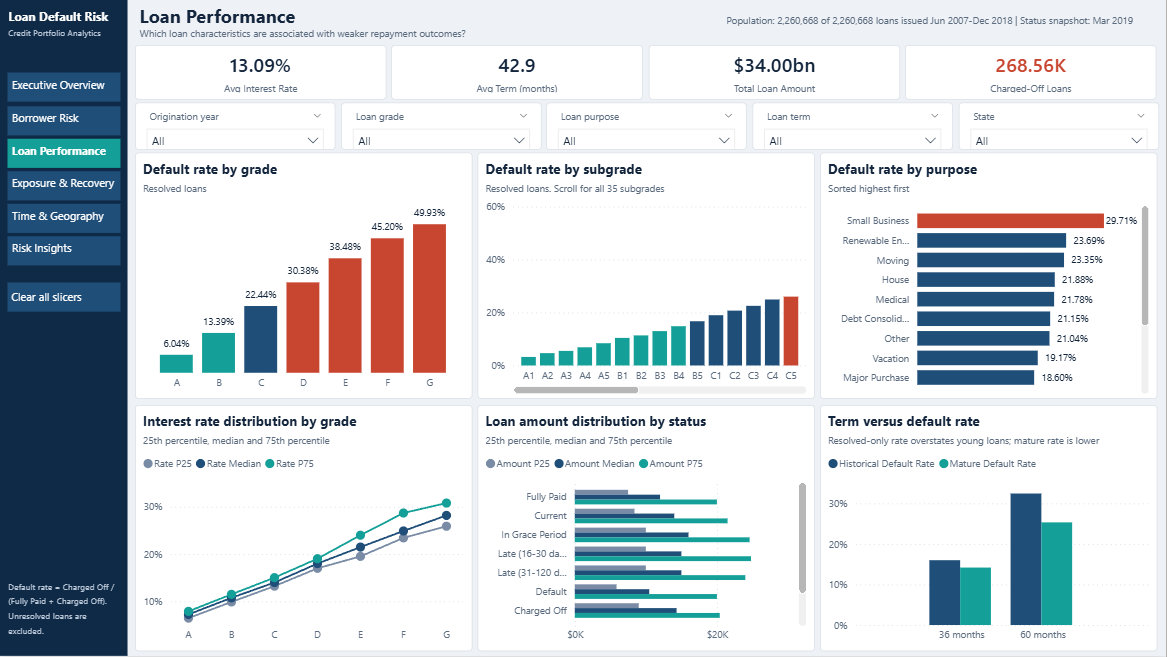

The page's visual inventory and layout, read from the dashboard file:
{"tool":"powerbi","page":{"name":"Loan Performance","canvas":[1280,720],"ordinal":2},"visuals":[{"type":"textbox","box":[0,0,140,720],"z":0},{"type":"textbox","box":[4,4,134,72],"z":1000},{"type":"textbox","box":[8,80,124,32],"z":2000},{"type":"actionButton","box":[8,80,124,32],"z":3000},{"type":"textbox","box":[8,116,124,32],"z":4000},{"type":"actionButton","box":[8,116,124,32],"z":5000},{"type":"textbox","box":[8,152,124,32],"z":6000},{"type":"actionButton","box":[8,152,124,32],"z":7000},{"type":"textbox","box":[8,188,124,32],"z":8000},{"type":"actionButton","box":[8,188,124,32],"z":9000},{"type":"textbox","box":[8,224,124,32],"z":10000},{"type":"actionButton","box":[8,224,124,32],"z":11000},{"type":"textbox","box":[8,260,124,32],"z":12000},{"type":"actionButton","box":[8,260,124,32],"z":13000},{"type":"textbox","box":[8,310,124,32],"z":14000},{"type":"actionButton","box":[8,310,124,32],"z":15000},{"type":"textbox","box":[4,630,134,86],"z":16000},{"type":"textbox","box":[148,-2,620,40],"z":17000},{"type":"textbox","box":[148,24,720,26],"z":18000},{"type":"card","fields":{"Values":["fact_loans.Scope Label"]},"box":[770,6,502,40],"z":19000},{"type":"card","fields":{"Values":["fact_loans.Average Interest Rate"]},"box":[148,50,276,60],"z":20000},{"type":"card","fields":{"Values":["fact_loans.Average Loan Term"]},"box":[430,50,276,60],"z":21000},{"type":"card","fields":{"Values":["fact_loans.Total Funded Amount"]},"box":[712,50,276,60],"z":22000},{"type":"card","fields":{"Values":["fact_loans.Charged-Off Loans"]},"box":[994,50,276,60],"z":23000},{"type":"slicer","fields":{"Values":["dim_date.issue_year"]},"box":[148,112,220,52],"z":24000},{"type":"slicer","fields":{"Values":["dim_grade.grade"]},"box":[374,112,220,52],"z":25000},{"type":"slicer","fields":{"Values":["dim_purpose.purpose_label"]},"box":[600,112,220,52],"z":26000},{"type":"slicer","fields":{"Values":["dim_term.term_label"]},"box":[826,112,220,52],"z":27000},{"type":"slicer","fields":{"Values":["dim_state.state_name"]},"box":[1052,112,220,52],"z":28000},{"type":"clusteredColumnChart","title":"Default rate by grade","fields":{"Category":["dim_grade.grade"],"Y":["fact_loans.Historical Default Rate"]},"box":[148,168,370,270],"z":29000},{"type":"clusteredColumnChart","title":"Default rate by subgrade","fields":{"Category":["dim_grade.sub_grade"],"Y":["fact_loans.Historical Default Rate"]},"box":[524,168,370,270],"z":30000},{"type":"clusteredBarChart","title":"Default rate by purpose","fields":{"Category":["dim_purpose.purpose_label"],"Y":["fact_loans.Historical Default Rate"]},"box":[900,168,370,270],"z":31000},{"type":"lineChart","title":"Interest rate distribution by grade","fields":{"Category":["dim_grade.grade"],"Y":["fact_loans.Rate P25","fact_loans.Rate Median","fact_loans.Rate P75"]},"box":[148,444,370,270],"z":32000},{"type":"clusteredBarChart","title":"Loan amount distribution by status","fields":{"Category":["dim_status.status_clean"],"Y":["fact_loans.Amount P25","fact_loans.Amount Median","fact_loans.Amount P75"]},"box":[524,444,370,270],"z":33000},{"type":"clusteredColumnChart","title":"Term versus default rate","fields":{"Category":["dim_term.term_label"],"Y":["fact_loans.Historical Default Rate","fact_loans.Mature Default Rate"]},"box":[900,444,370,270],"z":34000}]}

Visuals, with their boxes on the page's 1280x720 design canvas (x1, y1, x2, y2). These are canvas units, not pixel positions in the 1167x657 screenshot, which may show the page scaled, cropped or inside an application window:
textbox: {"x1": 0, "y1": 0, "x2": 140, "y2": 720}
textbox: {"x1": 4, "y1": 4, "x2": 138, "y2": 76}
textbox: {"x1": 8, "y1": 80, "x2": 132, "y2": 112}
actionButton: {"x1": 8, "y1": 80, "x2": 132, "y2": 112}
textbox: {"x1": 8, "y1": 116, "x2": 132, "y2": 148}
actionButton: {"x1": 8, "y1": 116, "x2": 132, "y2": 148}
textbox: {"x1": 8, "y1": 152, "x2": 132, "y2": 184}
actionButton: {"x1": 8, "y1": 152, "x2": 132, "y2": 184}
textbox: {"x1": 8, "y1": 188, "x2": 132, "y2": 220}
actionButton: {"x1": 8, "y1": 188, "x2": 132, "y2": 220}
textbox: {"x1": 8, "y1": 224, "x2": 132, "y2": 256}
actionButton: {"x1": 8, "y1": 224, "x2": 132, "y2": 256}
textbox: {"x1": 8, "y1": 260, "x2": 132, "y2": 292}
actionButton: {"x1": 8, "y1": 260, "x2": 132, "y2": 292}
textbox: {"x1": 8, "y1": 310, "x2": 132, "y2": 342}
actionButton: {"x1": 8, "y1": 310, "x2": 132, "y2": 342}
textbox: {"x1": 4, "y1": 630, "x2": 138, "y2": 716}
textbox: {"x1": 148, "y1": -2, "x2": 768, "y2": 38}
textbox: {"x1": 148, "y1": 24, "x2": 868, "y2": 50}
card - fact_loans.Scope Label: {"x1": 770, "y1": 6, "x2": 1272, "y2": 46}
card - fact_loans.Average Interest Rate: {"x1": 148, "y1": 50, "x2": 424, "y2": 110}
card - fact_loans.Average Loan Term: {"x1": 430, "y1": 50, "x2": 706, "y2": 110}
card - fact_loans.Total Funded Amount: {"x1": 712, "y1": 50, "x2": 988, "y2": 110}
card - fact_loans.Charged-Off Loans: {"x1": 994, "y1": 50, "x2": 1270, "y2": 110}
slicer - dim_date.issue_year: {"x1": 148, "y1": 112, "x2": 368, "y2": 164}
slicer - dim_grade.grade: {"x1": 374, "y1": 112, "x2": 594, "y2": 164}
slicer - dim_purpose.purpose_label: {"x1": 600, "y1": 112, "x2": 820, "y2": 164}
slicer - dim_term.term_label: {"x1": 826, "y1": 112, "x2": 1046, "y2": 164}
slicer - dim_state.state_name: {"x1": 1052, "y1": 112, "x2": 1272, "y2": 164}
"Default rate by grade" clusteredColumnChart: {"x1": 148, "y1": 168, "x2": 518, "y2": 438}
"Default rate by subgrade" clusteredColumnChart: {"x1": 524, "y1": 168, "x2": 894, "y2": 438}
"Default rate by purpose" clusteredBarChart: {"x1": 900, "y1": 168, "x2": 1270, "y2": 438}
"Interest rate distribution by grade" lineChart: {"x1": 148, "y1": 444, "x2": 518, "y2": 714}
"Loan amount distribution by status" clusteredBarChart: {"x1": 524, "y1": 444, "x2": 894, "y2": 714}
"Term versus default rate" clusteredColumnChart: {"x1": 900, "y1": 444, "x2": 1270, "y2": 714}
